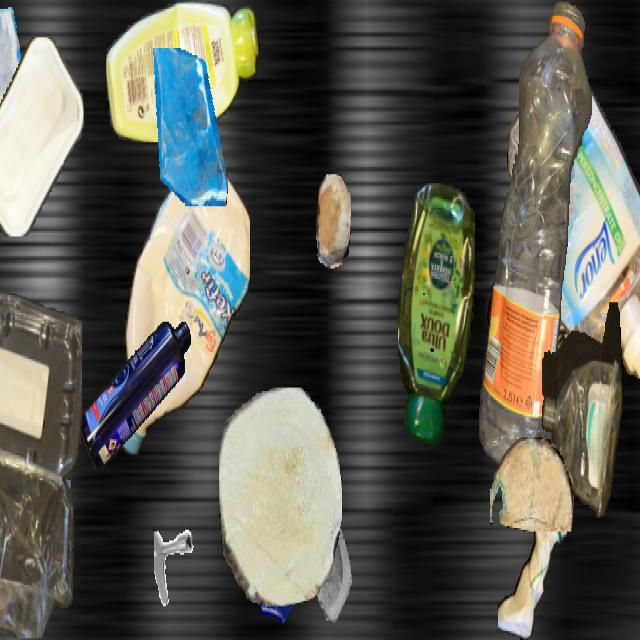glass: (144, 48, 232, 204), (289, 502, 365, 636), (0, 426, 71, 562), (249, 512, 311, 622), (0, 2, 23, 130)
metal: (154, 526, 214, 633)
plastic: (479, 2, 591, 471), (506, 71, 640, 377), (120, 153, 250, 462), (485, 197, 640, 439), (0, 279, 81, 638), (106, 2, 260, 140), (398, 183, 474, 446), (542, 302, 624, 519), (0, 38, 85, 236), (80, 322, 190, 468), (498, 489, 566, 638)
wood: (219, 388, 341, 604), (490, 437, 574, 530), (316, 174, 350, 267)
